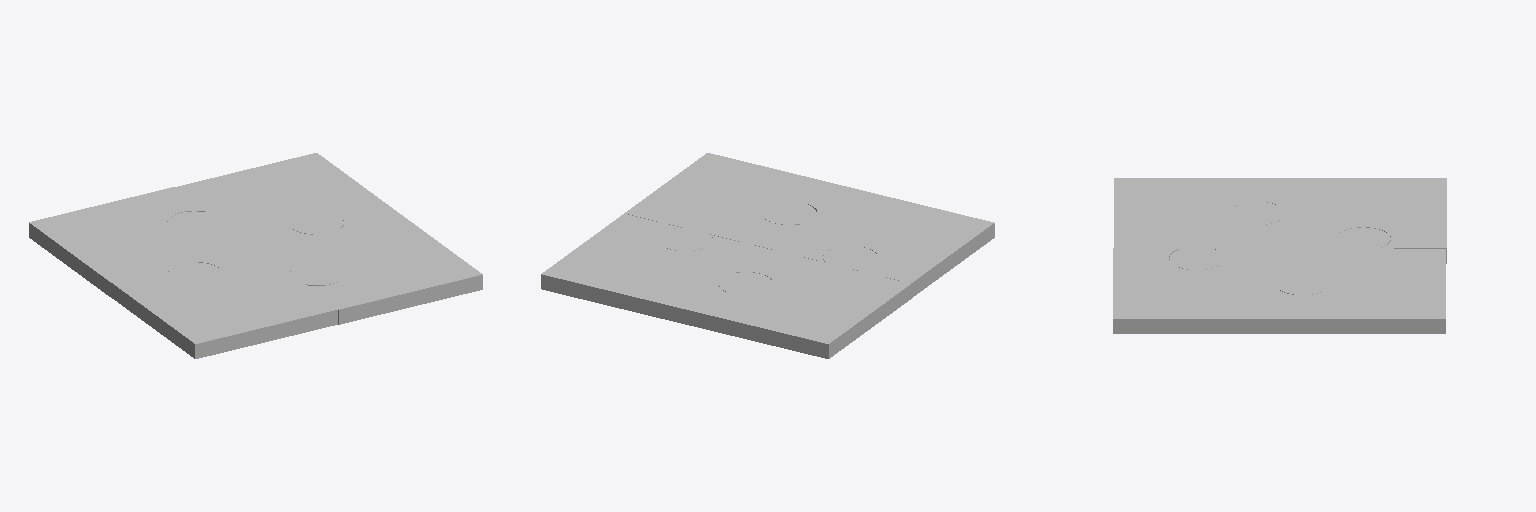
Rendered from circo.obj.
3 views of the same model, side by side, from view 1: azimuth 30°, elevation 25°; view 2: azimuth 150°, elevation 25°; view 3: azimuth 270°, elevation 25° (orthographic).
Parts seen in each view (by area): view 1: obj_3, obj_4, obj_1, obj_2; view 2: obj_1, obj_2, obj_3, obj_4; view 3: obj_4, obj_2, obj_3, obj_1.
Part boxes in pixels (x1,y1,x2,y2): obj_3: (112,248,345,358); obj_4: (257,211,482,324); obj_1: (29,187,254,297); obj_2: (167,153,398,247); obj_1: (684,246,911,358); obj_2: (541,214,772,323); obj_3: (761,188,994,297); obj_4: (624,153,850,250); obj_4: (1113,248,1330,333); obj_2: (1279,227,1445,333); obj_3: (1114,178,1280,269); obj_1: (1230,178,1446,263).
Size of the model in its own units: 59.79 by 3.1 by 59.98.